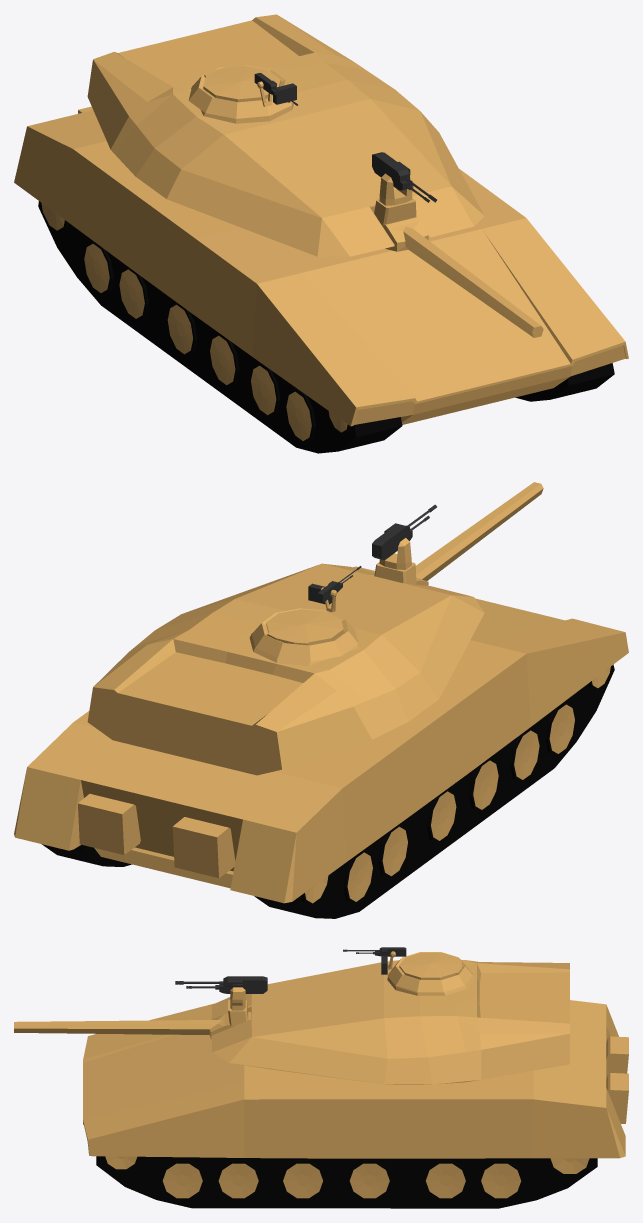
3 renders of one model, top to bottom at view 1: azimuth 30°, elevation 25°; view 2: azimuth 150°, elevation 25°; view 3: azimuth 270°, elevation 25°, orthographic. The views are drawn at different scales.
Parts seen in each view (by area): view 1: Plane.024, Plane.025, Cylinder.004, Plane.027, Plane.026, Plane.029, Cube.008, Plane.028; view 2: Plane.024, Plane.025, Cylinder.004, Plane.027, Plane.026, Plane.029, Cube.008, Plane.028; view 3: Plane.024, Plane.025, Cylinder.004, Plane.027, Plane.026, Plane.029, Cube.008.
Part boxes in pixels (x1=…): Plane.024: x1=14, y1=106, x2=628, y2=426; Plane.025: x1=87, y1=14, x2=484, y2=256; Cylinder.004: x1=38, y1=201, x2=614, y2=453; Plane.027: x1=374, y1=198, x2=543, y2=337; Plane.026: x1=203, y1=65, x2=280, y2=101; Plane.029: x1=372, y1=152, x2=436, y2=202; Cube.008: x1=254, y1=73, x2=297, y2=105; Plane.028: x1=379, y1=173, x2=413, y2=205; Plane.024: x1=14, y1=566, x2=628, y2=903; Plane.025: x1=87, y1=563, x2=484, y2=775; Cylinder.004: x1=42, y1=664, x2=614, y2=918; Plane.027: x1=374, y1=482, x2=543, y2=585; Plane.026: x1=266, y1=609, x2=343, y2=645; Plane.029: x1=372, y1=504, x2=436, y2=560; Cube.008: x1=308, y1=566, x2=361, y2=604; Plane.028: x1=379, y1=538, x2=411, y2=569; Plane.024: x1=83, y1=1000, x2=628, y2=1158; Plane.025: x1=211, y1=952, x2=569, y2=1084; Cylinder.004: x1=96, y1=1156, x2=597, y2=1208; Plane.027: x1=14, y1=1000, x2=251, y2=1039; Plane.026: x1=399, y1=952, x2=461, y2=979; Plane.029: x1=175, y1=976, x2=267, y2=993; Cube.008: x1=343, y1=947, x2=406, y2=974.
Bounding box in the file's own units: 349 × 302 × 848.
